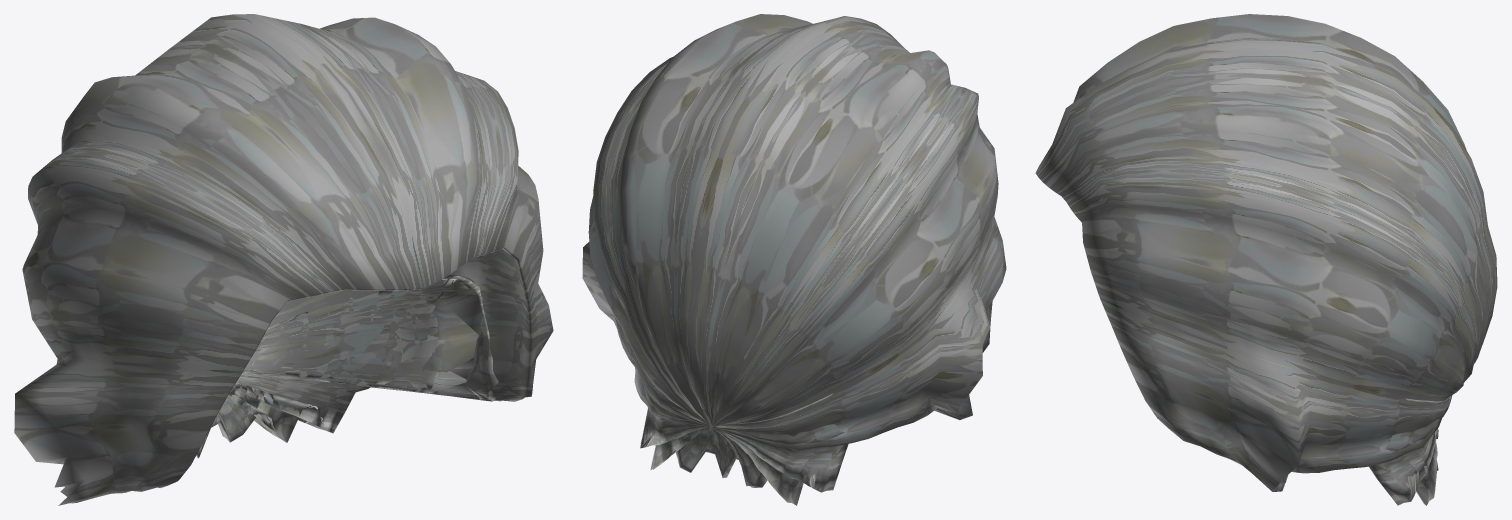
Rendered from hair.swept.hair-1.gltf.
3 renders of one model, left to right at view 1: azimuth 30°, elevation 25°; view 2: azimuth 150°, elevation 25°; view 3: azimuth 270°, elevation 25°, orthographic. The views are drawn at different scales.
Parts seen in each view (by area): view 1: hair.swept; view 2: hair.swept; view 3: hair.swept.
Boxes of the visible parts, <box> form: hair.swept: <box>14,14,553,505</box>; hair.swept: <box>582,14,1006,505</box>; hair.swept: <box>1035,14,1497,505</box>.
Bounding box in the file's own units: 0.2121 × 0.1997 × 0.1959.
1 material, 1 textured.
